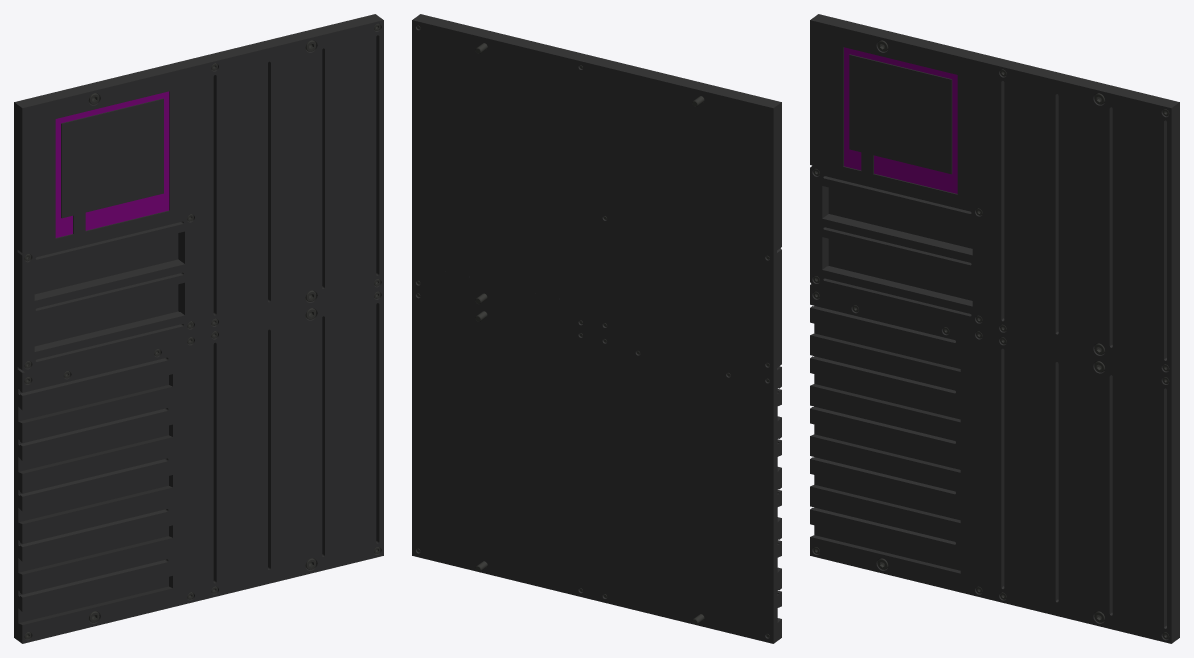
3 views of the same model, side by side, from view 1: azimuth 30°, elevation 25°; view 2: azimuth 150°, elevation 25°; view 3: azimuth 330°, elevation 25° (orthographic).
Parts seen in each view (by area): view 1: ISO 4762 - M3 x 8.018; view 2: ISO 4762 - M3 x 8.018; view 3: ISO 4762 - M3 x 8.018.
Boxes of the visible parts, <box> form: ISO 4762 - M3 x 8.018: <box>14,14,383,643</box>; ISO 4762 - M3 x 8.018: <box>412,14,781,643</box>; ISO 4762 - M3 x 8.018: <box>810,14,1179,643</box>.
Size of the model in its own units: 0.3 by 0.425 by 0.021.
